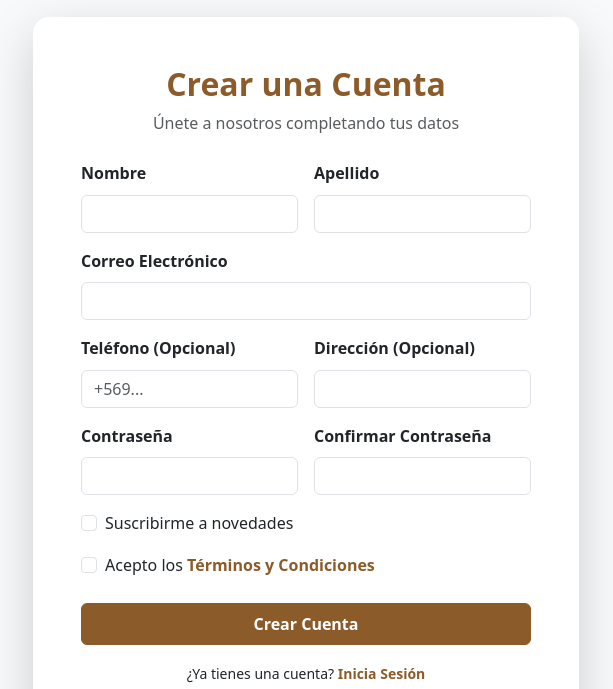
Test: Registro Component › muestra error si las contraseñas no coinciden
The image size is (613, 689).
Type "Pass123456" into the 1st password field named "password" at (190, 476), box left=81, top=457, right=298, bottom=495
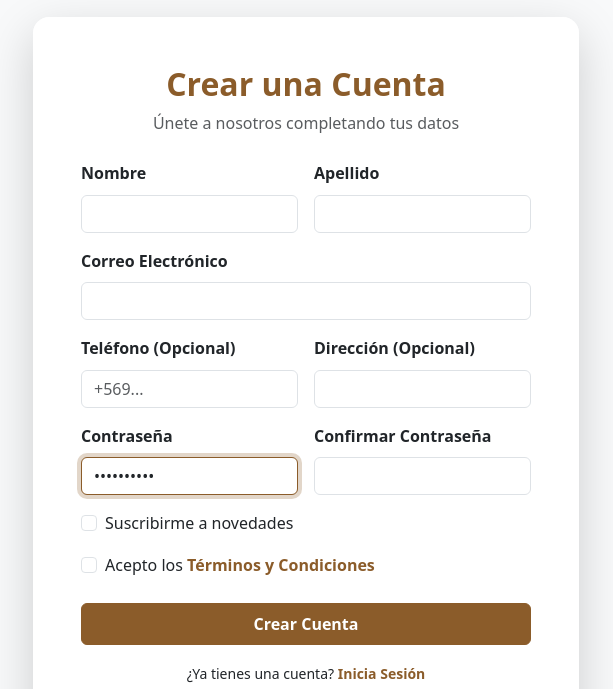
Type "PassDiferente" into the password field named "confirmPassword" below "Confirmar Contraseña" at (422, 476), box left=314, top=457, right=531, bottom=495
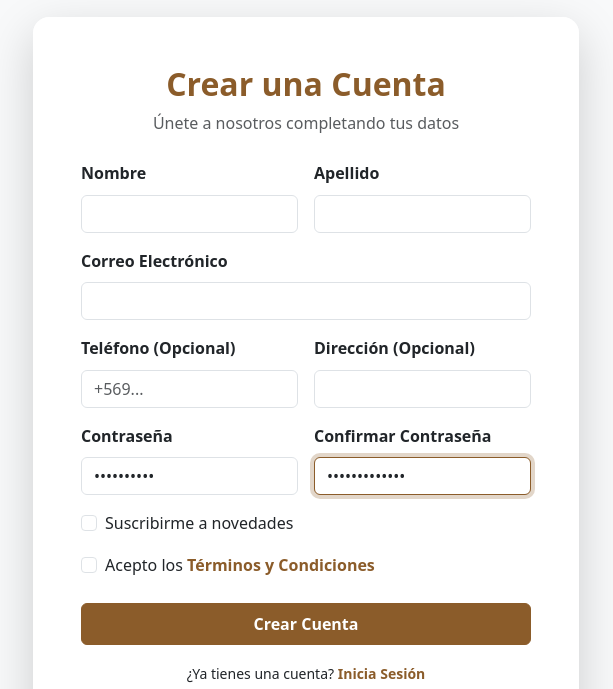
Click the button "Crear Cuenta" at (306, 624), box left=81, top=602, right=531, bottom=644
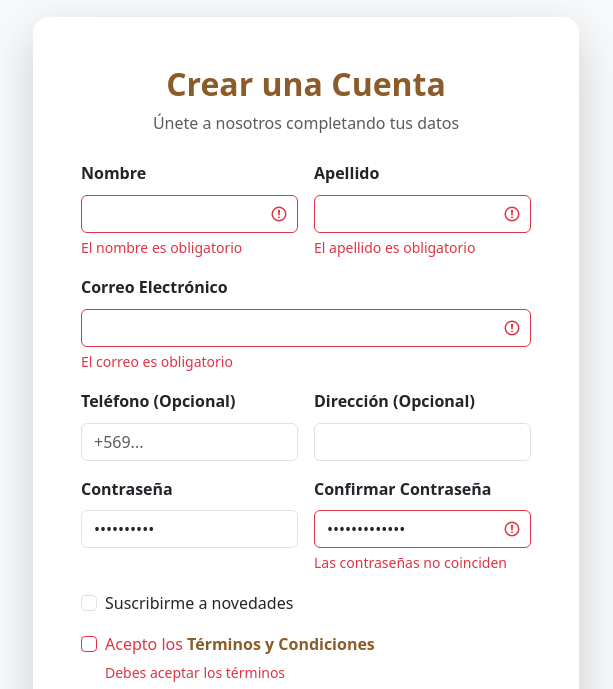
Expected: the text "Las contraseñas no coinciden" is shown, left=314, top=552, right=531, bottom=574
